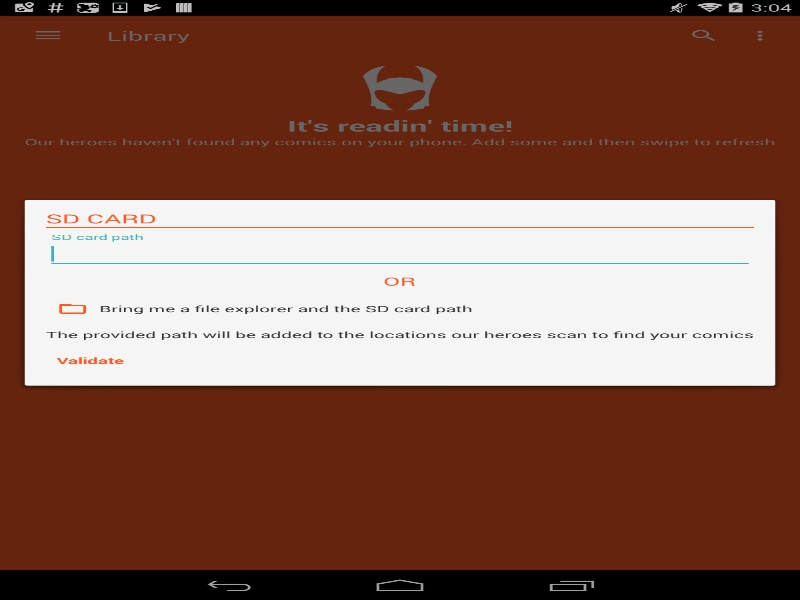Input: (46, 240, 754, 268)
